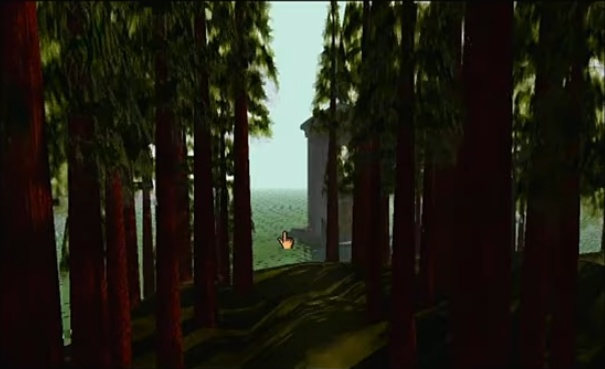Pointer: (276, 228, 298, 251)
